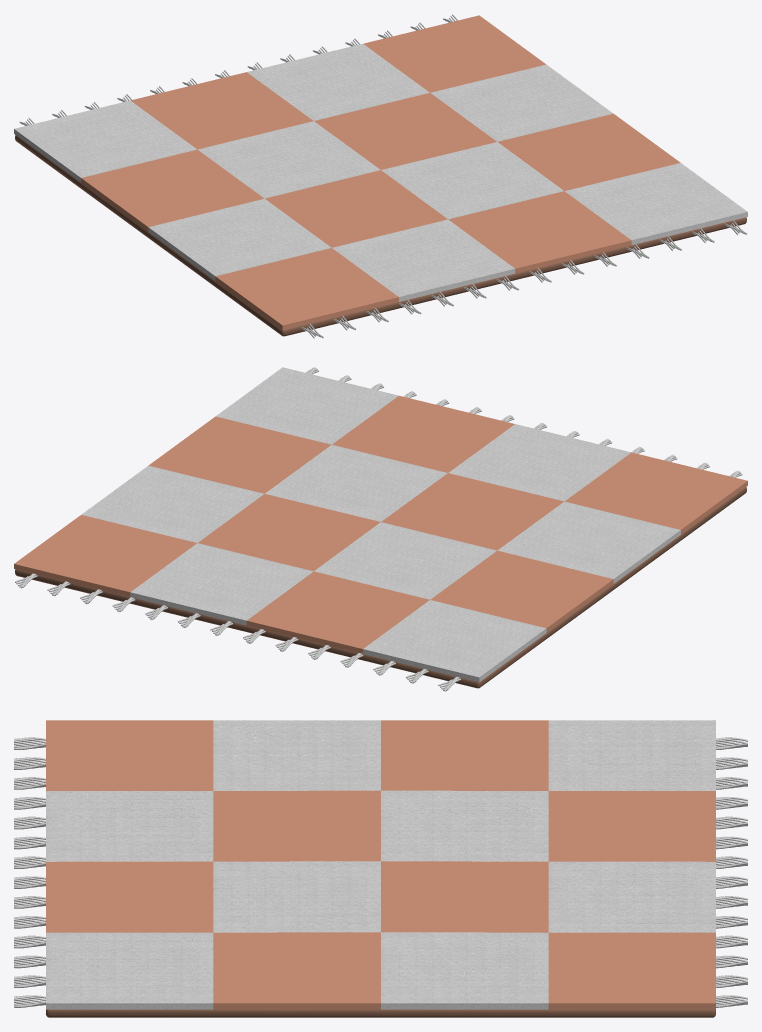
The model's file is checker-rug.glb.
3 views of the same model, one above another, from view 1: azimuth 30°, elevation 25°; view 2: azimuth 150°, elevation 25°; view 3: azimuth 270°, elevation 25° (orthographic). The views are drawn at different scales.
Visible parts, largest first — view 1: catalog_surface_RealismUV; view 2: catalog_surface_RealismUV; view 3: catalog_surface_RealismUV.
Boxes of the visible parts, x1,y1,x2,y2 form: catalog_surface_RealismUV: (14,14,747,338); catalog_surface_RealismUV: (14,367,747,691); catalog_surface_RealismUV: (14,720,747,1017).
Bounding box in the file's own units: 1.5 × 0.0395 × 1.64.
Materials: 3 (1 with a texture image).
